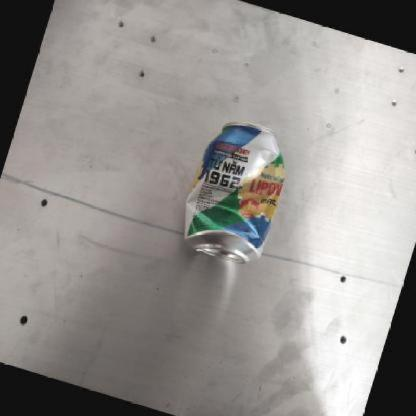Can: (171, 111, 301, 274)
